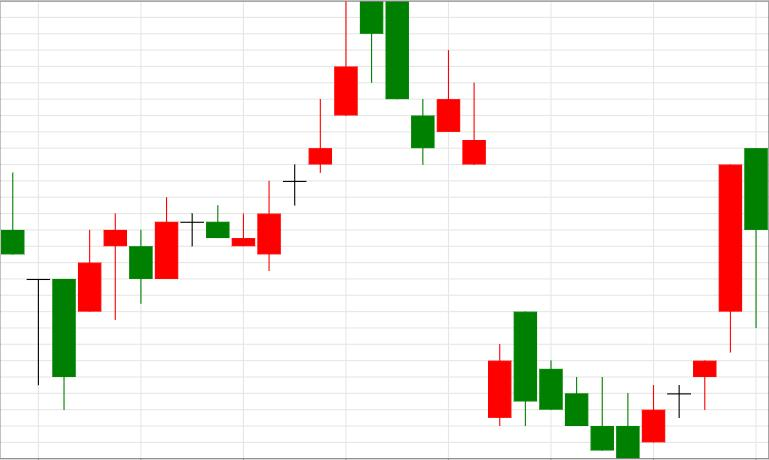evening_star_fall: (28, 214, 152, 411)
hanging_man_fall: (258, 1, 383, 271)
inverse_hammer_rise: (514, 311, 613, 451)
